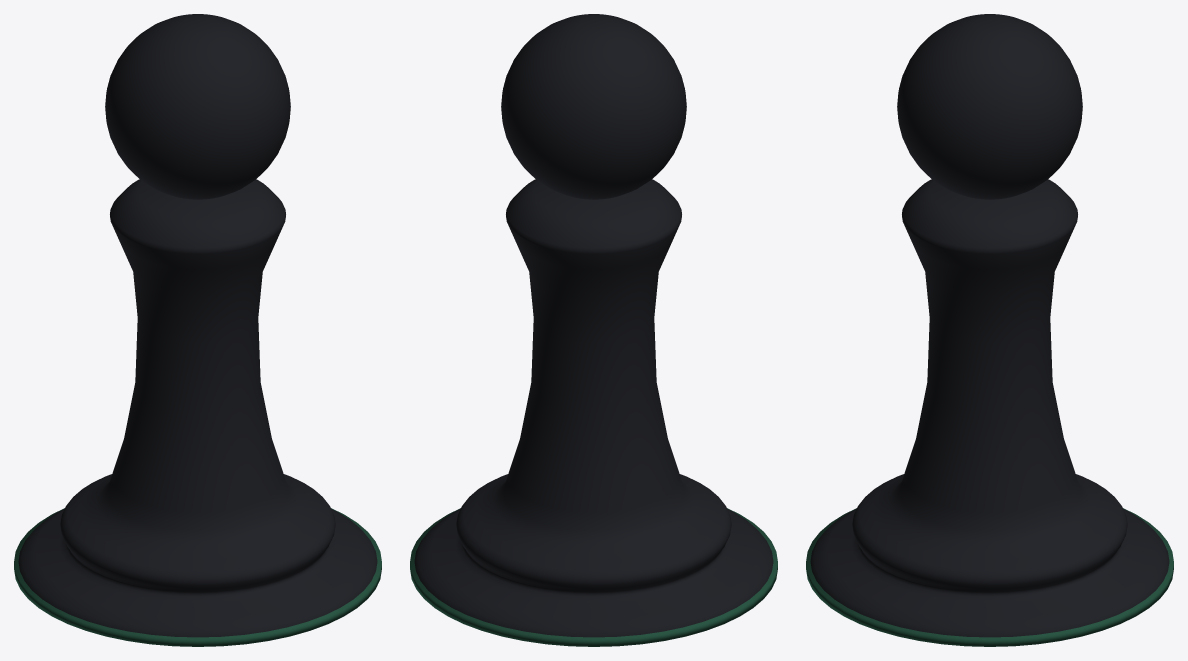
File: chess-pawn-black.glb
3 renders of one model, left to right at view 1: azimuth 30°, elevation 25°; view 2: azimuth 150°, elevation 25°; view 3: azimuth 270°, elevation 25°, orthographic.
Parts seen in each view (by area): view 1: ChessPawn; view 2: ChessPawn; view 3: ChessPawn.
Boxes of the visible parts, <box> form: ChessPawn: <box>14,14,381,646</box>; ChessPawn: <box>410,14,777,646</box>; ChessPawn: <box>806,14,1173,646</box>.
Bounding box in the file's own units: 0.6112 × 1 × 0.6112.
